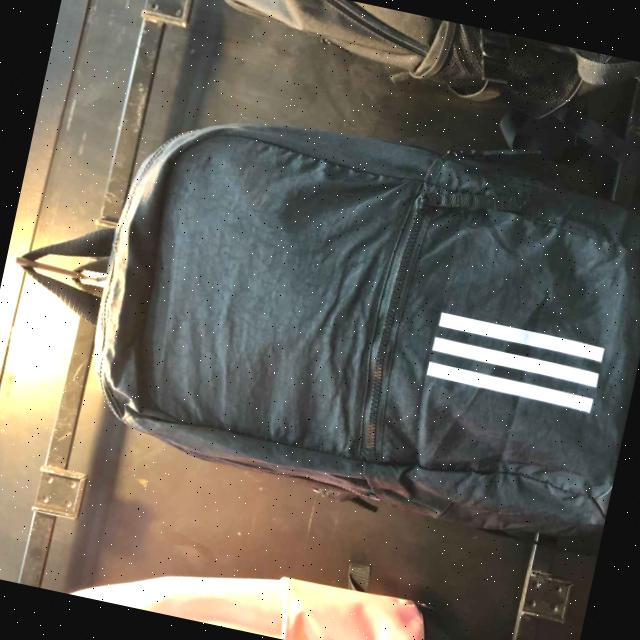handbag: (55, 95, 640, 554)
